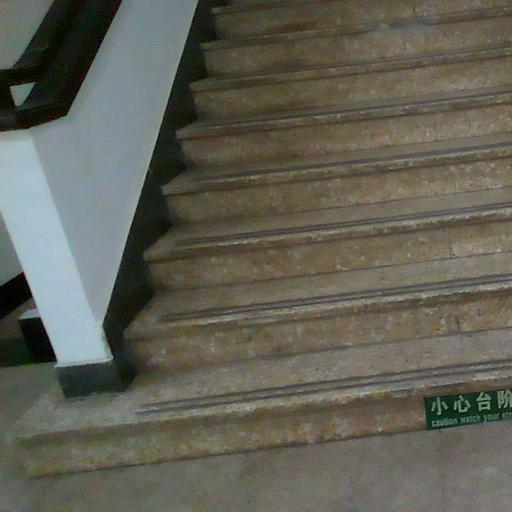stairs: (19, 0, 511, 474)
